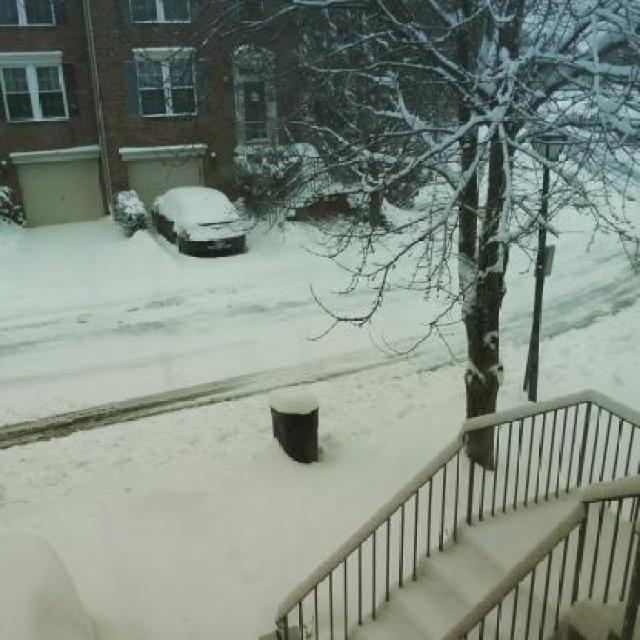stair: (277, 469, 543, 640)
